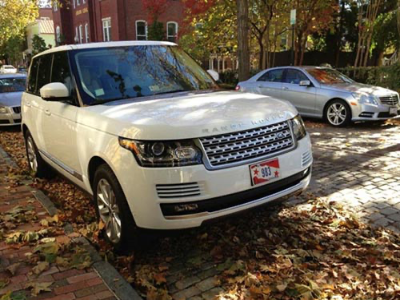licence: (254, 156, 277, 184)
